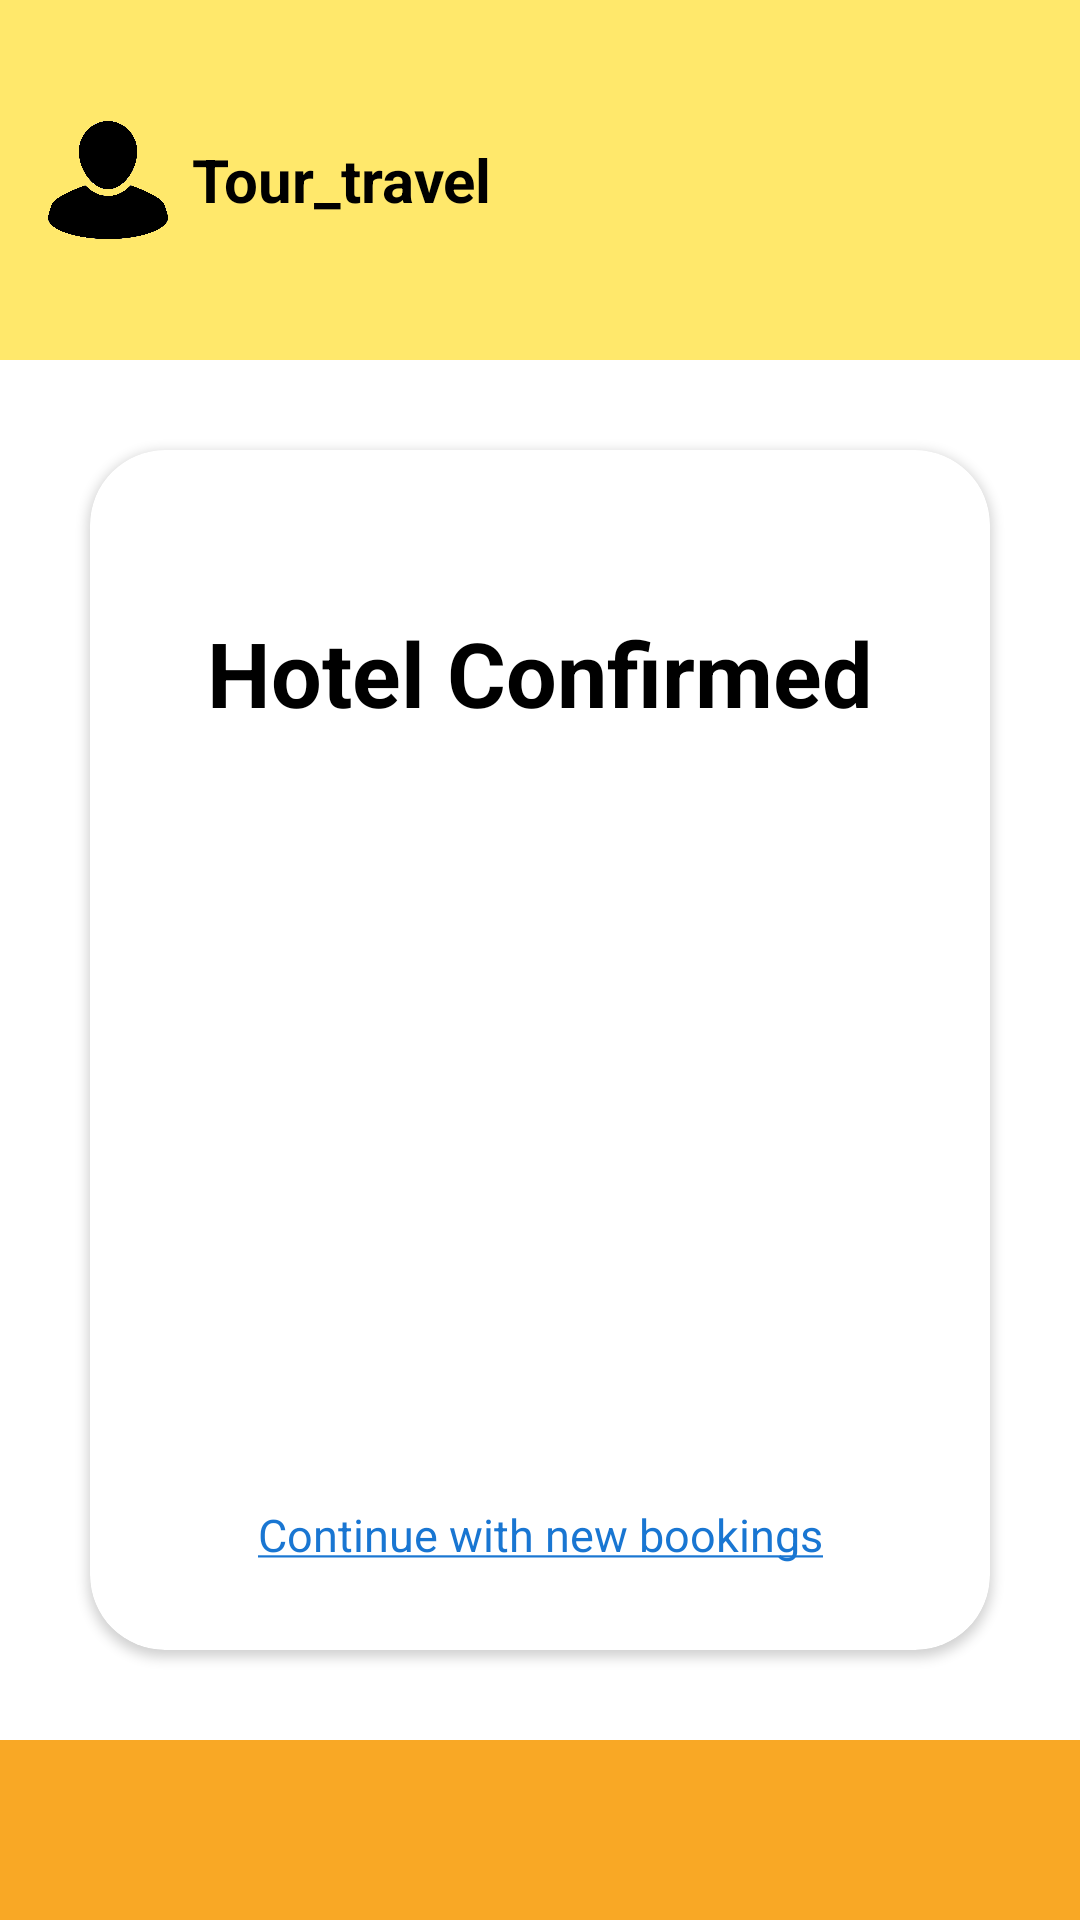

Icon click points for this 1080 × 1920 phone screenshot, format (x,y):
App profile: (108,180)
